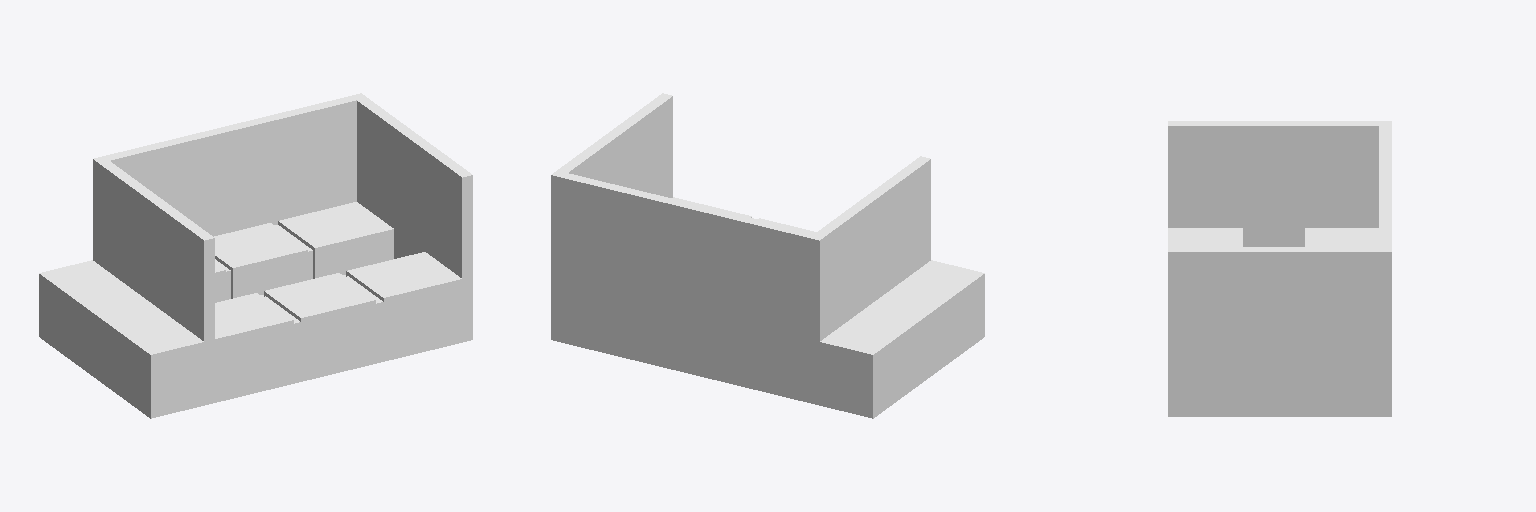
Rendered from foodTruck.obj.
3 views of the same model, side by side, from view 1: azimuth 30°, elevation 25°; view 2: azimuth 150°, elevation 25°; view 3: azimuth 270°, elevation 25° (orthographic).
Parts seen in each view (by area): view 1: foodTruck; view 2: foodTruck; view 3: foodTruck.
Part boxes in pixels (x1,y1,x2,y2): foodTruck: (39,93,472,418); foodTruck: (551,93,984,418); foodTruck: (1168,121,1391,416).
Bounding box in the file's own units: 90 × 44 × 54.